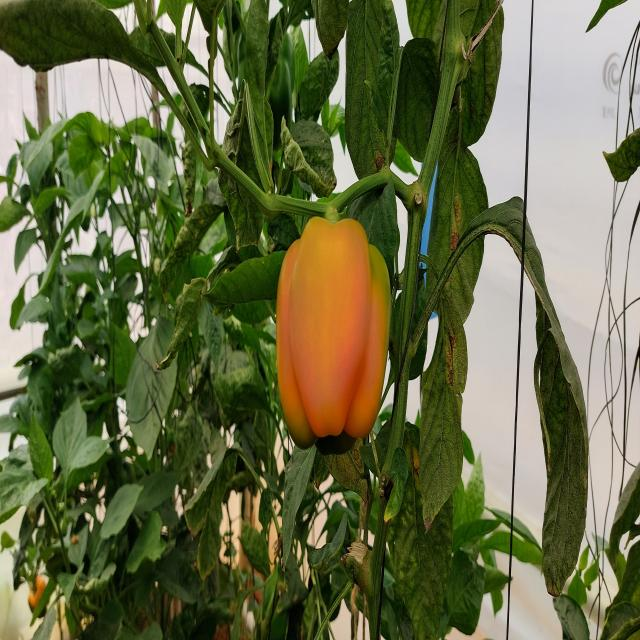Yellow-Ready-to-Harvest: (274, 220, 388, 443)
